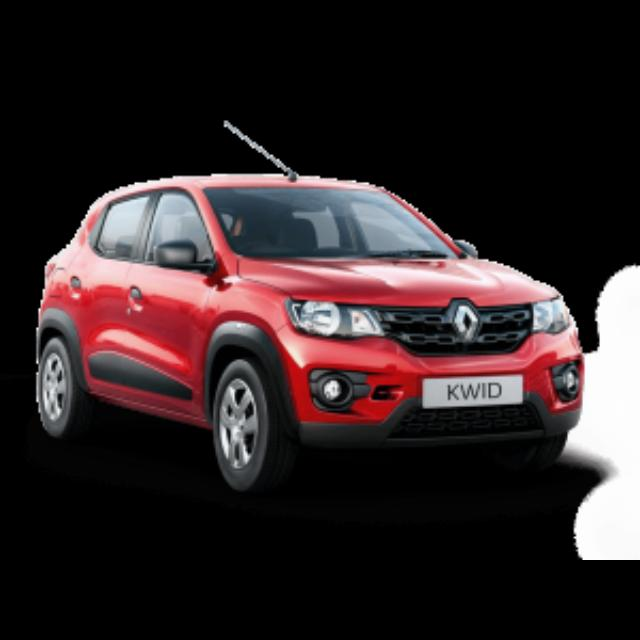carPlate: (422, 377, 522, 405)
